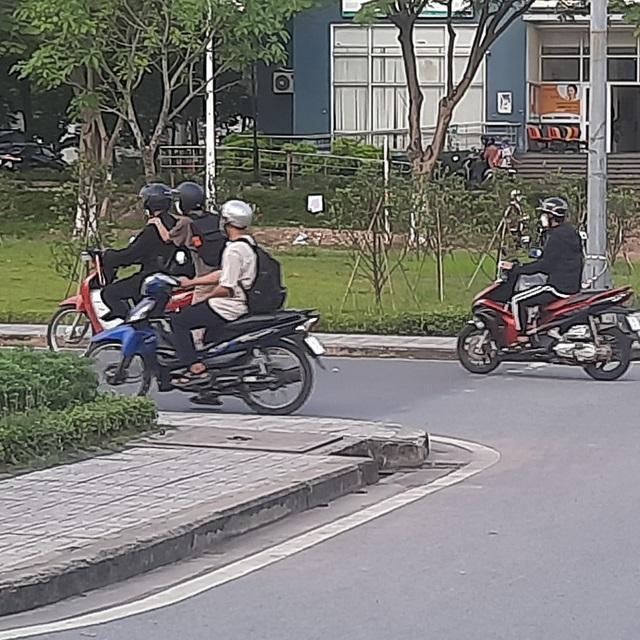Helmet: (215, 200, 253, 236), (171, 178, 205, 214), (135, 182, 169, 214), (534, 196, 566, 224)
